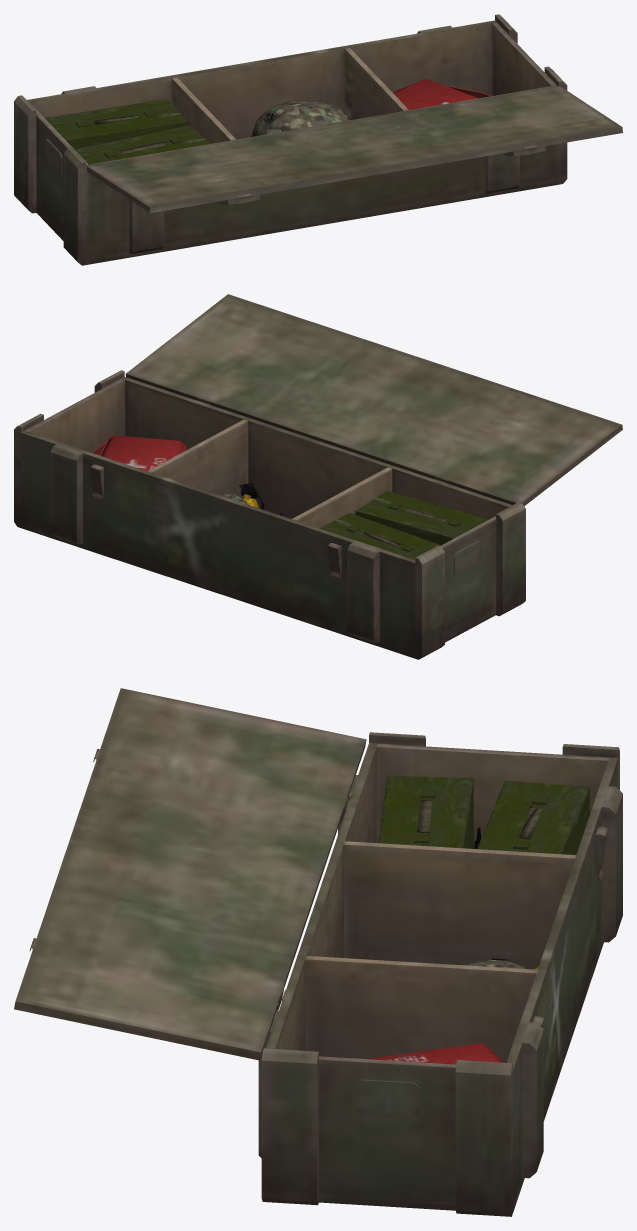
The model's file is goldbox.glb.
3 renders of one model, top to bottom at view 1: azimuth 30°, elevation 25°; view 2: azimuth 150°, elevation 25°; view 3: azimuth 270°, elevation 25°, orthographic. The views are drawn at different scales.
Visible parts, largest first — view 1: Object_2, Object_7, Object_4, Object_3; view 2: Object_2, Object_7, Object_3; view 3: Object_2, Object_7, Object_3.
Boxes of the visible parts, bbox=[...] form: Object_2: bbox=[14, 14, 622, 265]; Object_7: bbox=[45, 99, 210, 164]; Object_4: bbox=[251, 101, 349, 136]; Object_3: bbox=[393, 78, 491, 109]; Object_2: bbox=[14, 294, 622, 659]; Object_7: bbox=[319, 490, 489, 559]; Object_3: bbox=[92, 435, 186, 471]; Object_2: bbox=[14, 688, 622, 1216]; Object_7: bbox=[378, 776, 589, 854]; Object_3: bbox=[366, 1043, 503, 1064].
Bounding box in the file's own units: 1 × 0.2445 × 0.7379.
6 materials, 6 textured.
